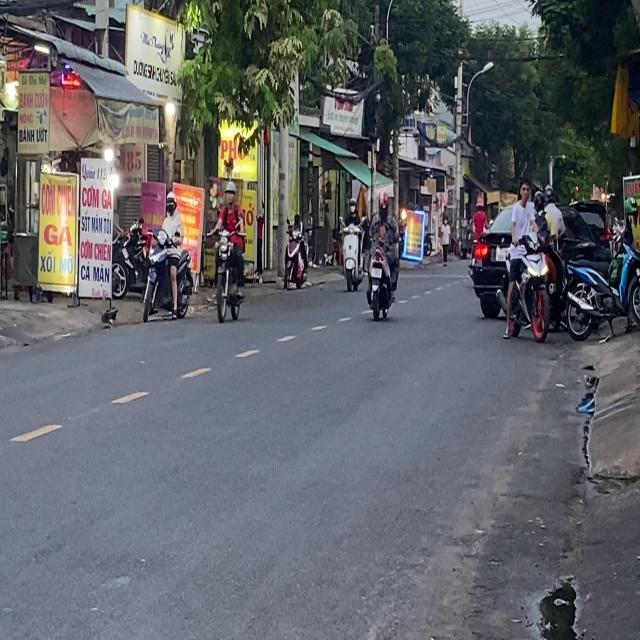helmet: (164, 191, 177, 216), (224, 180, 236, 204)
licenseplate: (140, 190, 193, 322), (212, 179, 248, 323)
